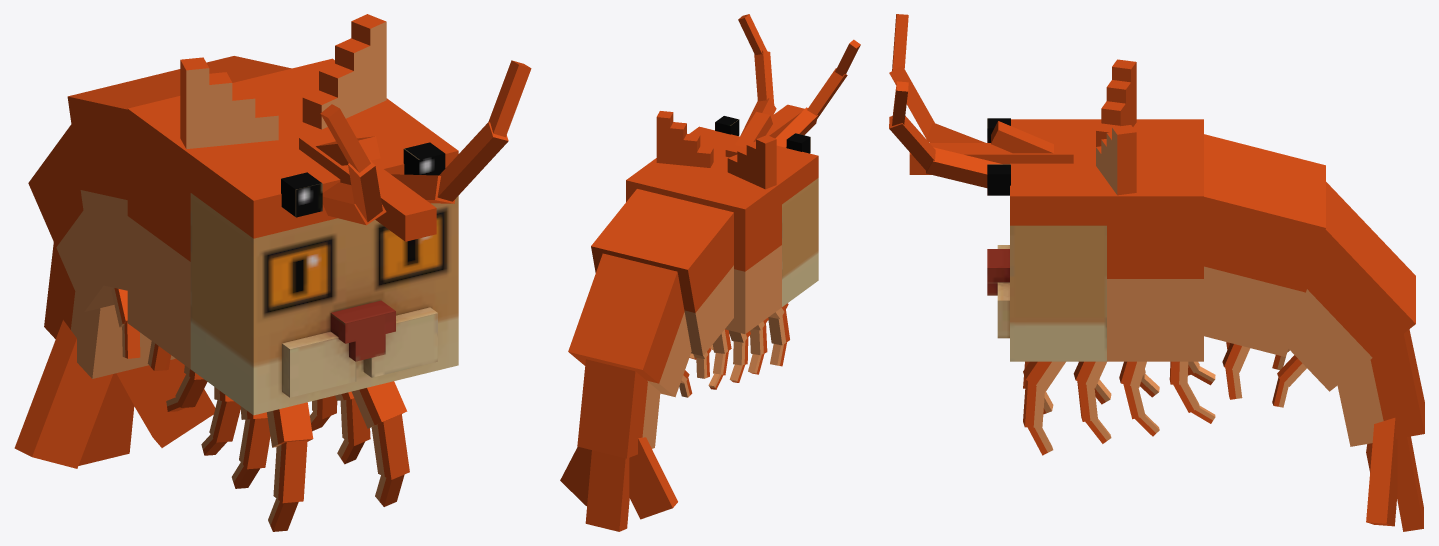
Rendered from trippiTroppi.fbx.
3 renders of one model, left to right at view 1: azimuth 30°, elevation 25°; view 2: azimuth 150°, elevation 25°; view 3: azimuth 270°, elevation 25°, orthographic. The views are drawn at different scales.
Parts seen in each view (by area): view 1: trippiTroppi; view 2: trippiTroppi; view 3: trippiTroppi.
Part boxes in pixels (x1,y1,x2,y2): trippiTroppi: (14,14,531,531); trippiTroppi: (560,14,860,531); trippiTroppi: (889,14,1424,531).
Size of the model in its own units: 206 by 590 by 606.
